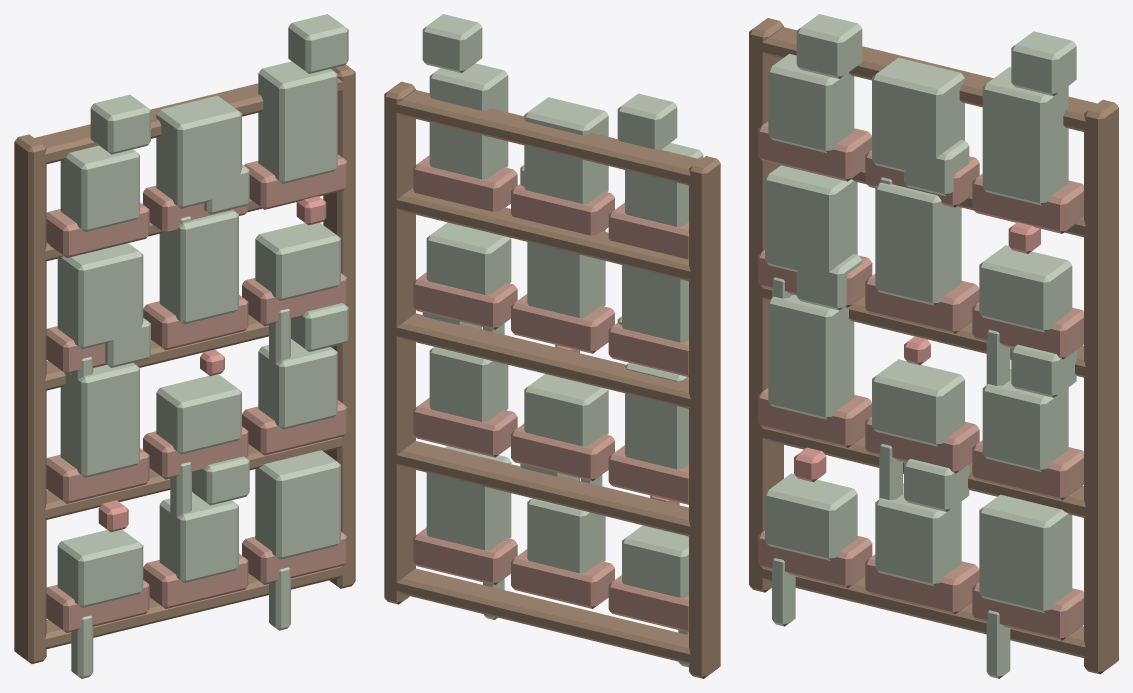
The model's file is VerticalGardenWall.glb.
The picture shows the model from 3 angles, left to right: view 1: azimuth 30°, elevation 25°; view 2: azimuth 150°, elevation 25°; view 3: azimuth 330°, elevation 25°; orthographic projection. The views are drawn at different scales.
Visible parts, largest first — view 1: VerticalGardenWall_Body; view 2: VerticalGardenWall_Body; view 3: VerticalGardenWall_Body.
Boxes of the visible parts, x1,y1,x2,y2 form: VerticalGardenWall_Body: (14, 14, 355, 678); VerticalGardenWall_Body: (384, 14, 720, 678); VerticalGardenWall_Body: (749, 14, 1118, 678).
Bounding box in the file's own units: 1.06 × 1.83 × 0.205.
